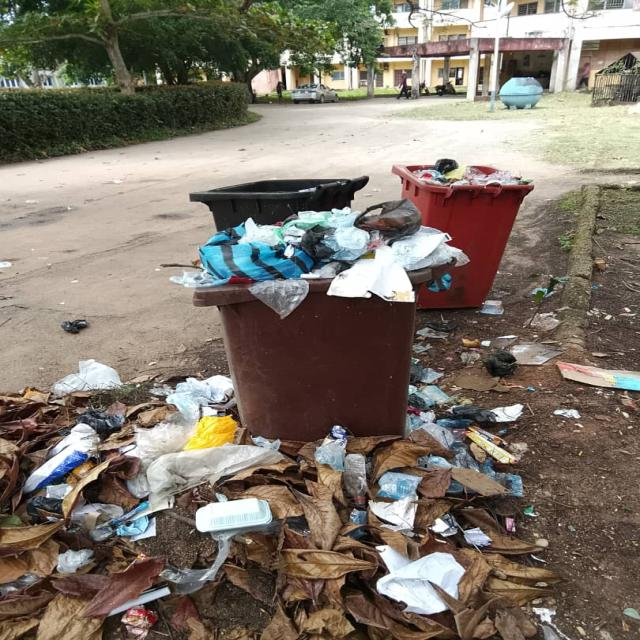full: (391, 158, 536, 190)
half-full: (192, 177, 370, 204)
overflowing: (196, 203, 460, 306)
